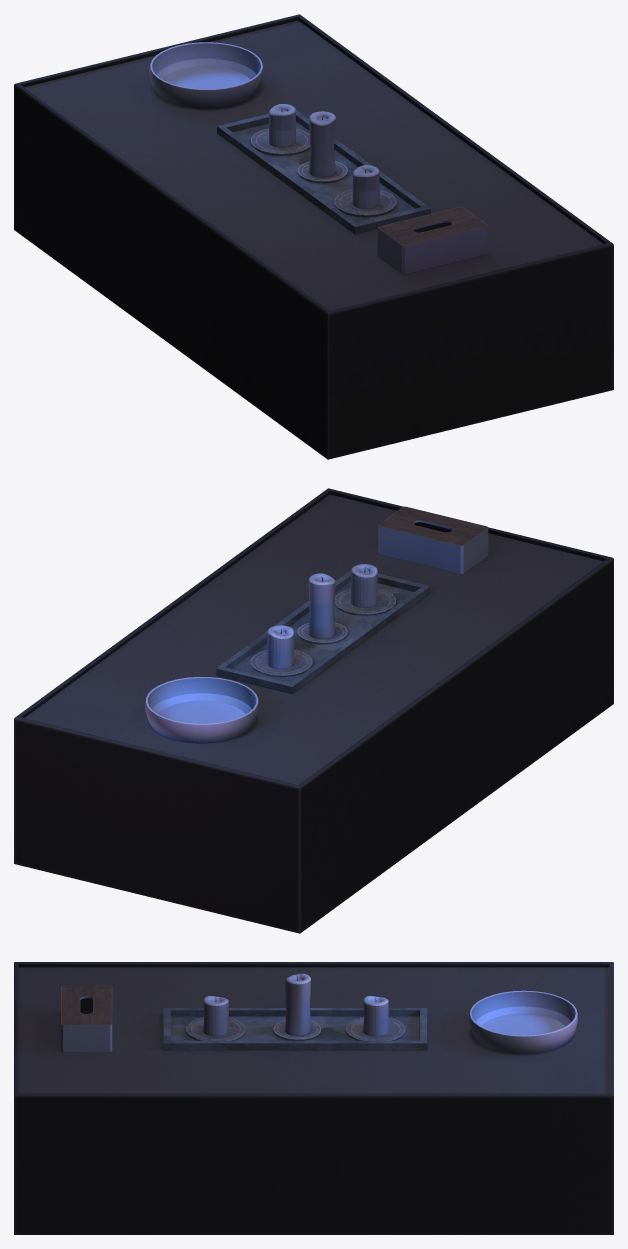
The model's file is TeaTable.obj.
3 views of the same model, one above another, from view 1: azimuth 30°, elevation 25°; view 2: azimuth 150°, elevation 25°; view 3: azimuth 270°, elevation 25° (orthographic). The views are drawn at different scales.
Visible parts, largest first — view 1: Object_6; view 2: Object_6; view 3: Object_6.
Part boxes in pixels (x1,y1,x2,y2): Object_6: (14,14,613,459); Object_6: (14,488,613,933); Object_6: (14,962,613,1234).
Size of the model in its own units: 1.09 by 0.7338 by 2.08.
1 material, 1 textured.
